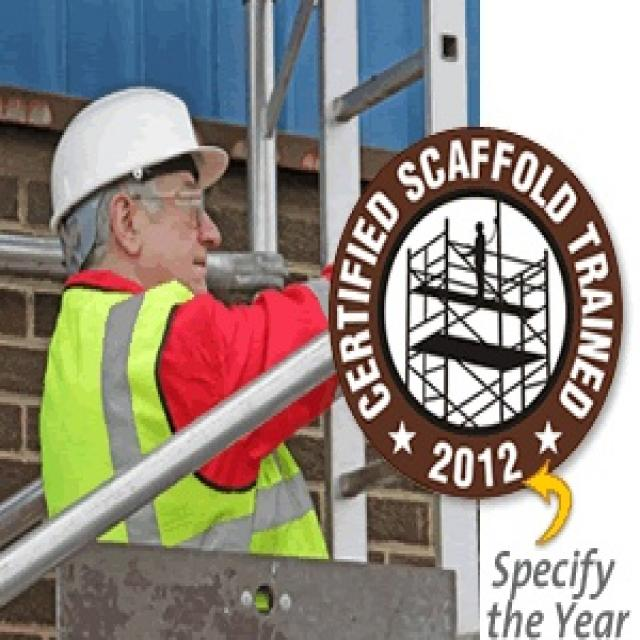Reflective-Jacket: (32, 276, 335, 554)
Safety-Helmet: (36, 78, 228, 230)
